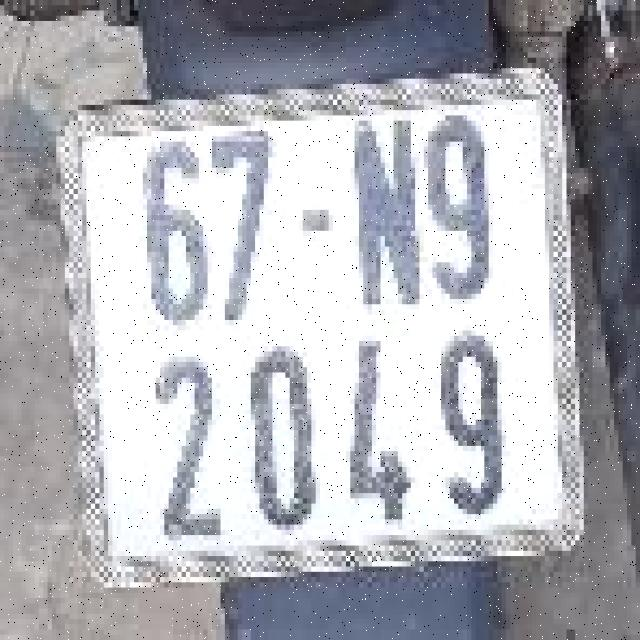0: (240, 341, 326, 546)
2: (141, 346, 227, 546)
4: (339, 330, 422, 540)
6: (134, 134, 212, 333)
7: (208, 120, 276, 330)
9: (428, 320, 515, 525), (422, 105, 504, 304)
N: (339, 110, 422, 320)
